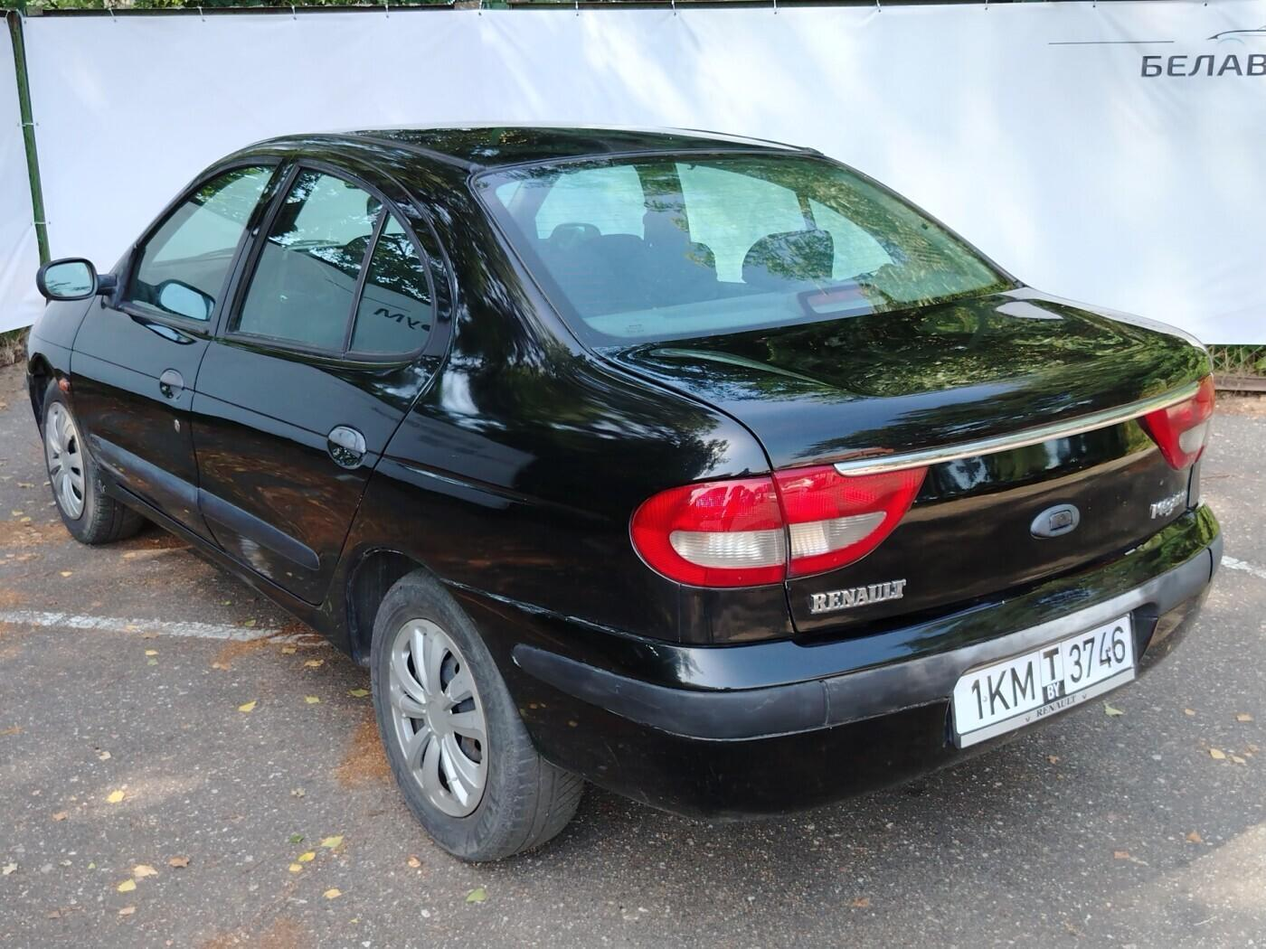Megane_1999-2003: (25, 116, 1225, 868)
